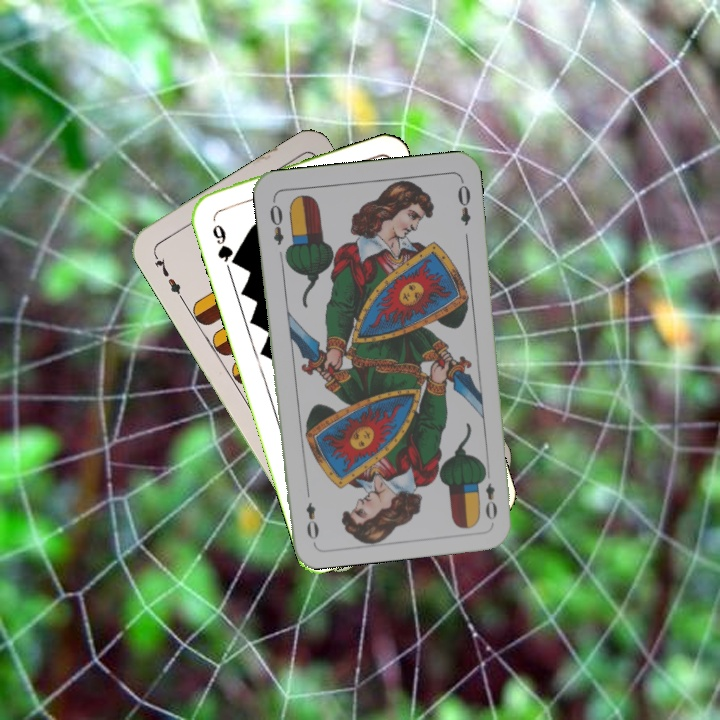E7: (149, 249, 186, 303)
EO: (477, 465, 500, 523), (265, 195, 286, 248)
G9: (208, 220, 240, 269)
